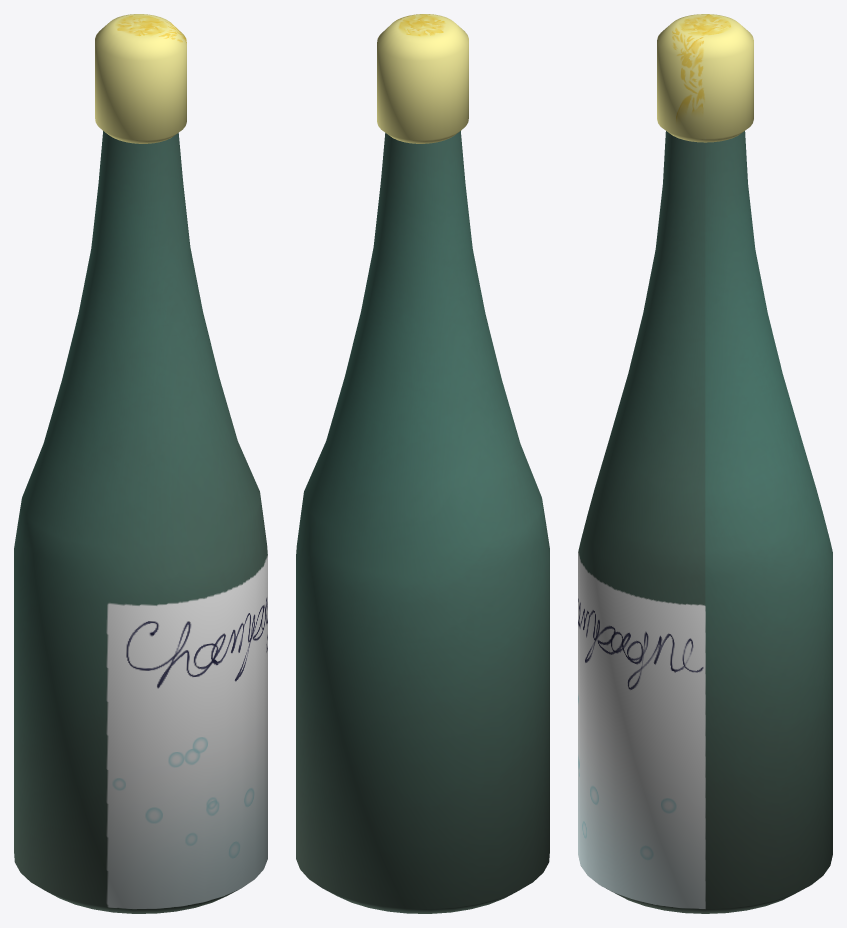
The model's file is Champagne.obj.
3 views of the same model, side by side, from view 1: azimuth 30°, elevation 25°; view 2: azimuth 150°, elevation 25°; view 3: azimuth 270°, elevation 25° (orthographic).
Visible parts, largest first — view 1: Champagne; view 2: Champagne; view 3: Champagne.
Part boxes in pixels (x1,y1,x2,y2): Champagne: [14, 14, 267, 913]; Champagne: [296, 14, 549, 913]; Champagne: [578, 14, 832, 913].
Size of the model in its own units: 0.3369 by 1.23 by 0.3369.
1 material, 1 textured.
